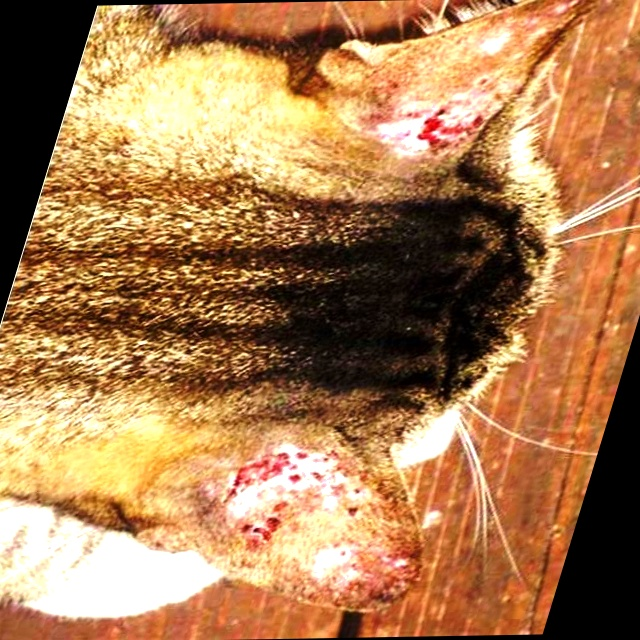ringworm: (203, 430, 407, 553), (382, 37, 542, 161)
